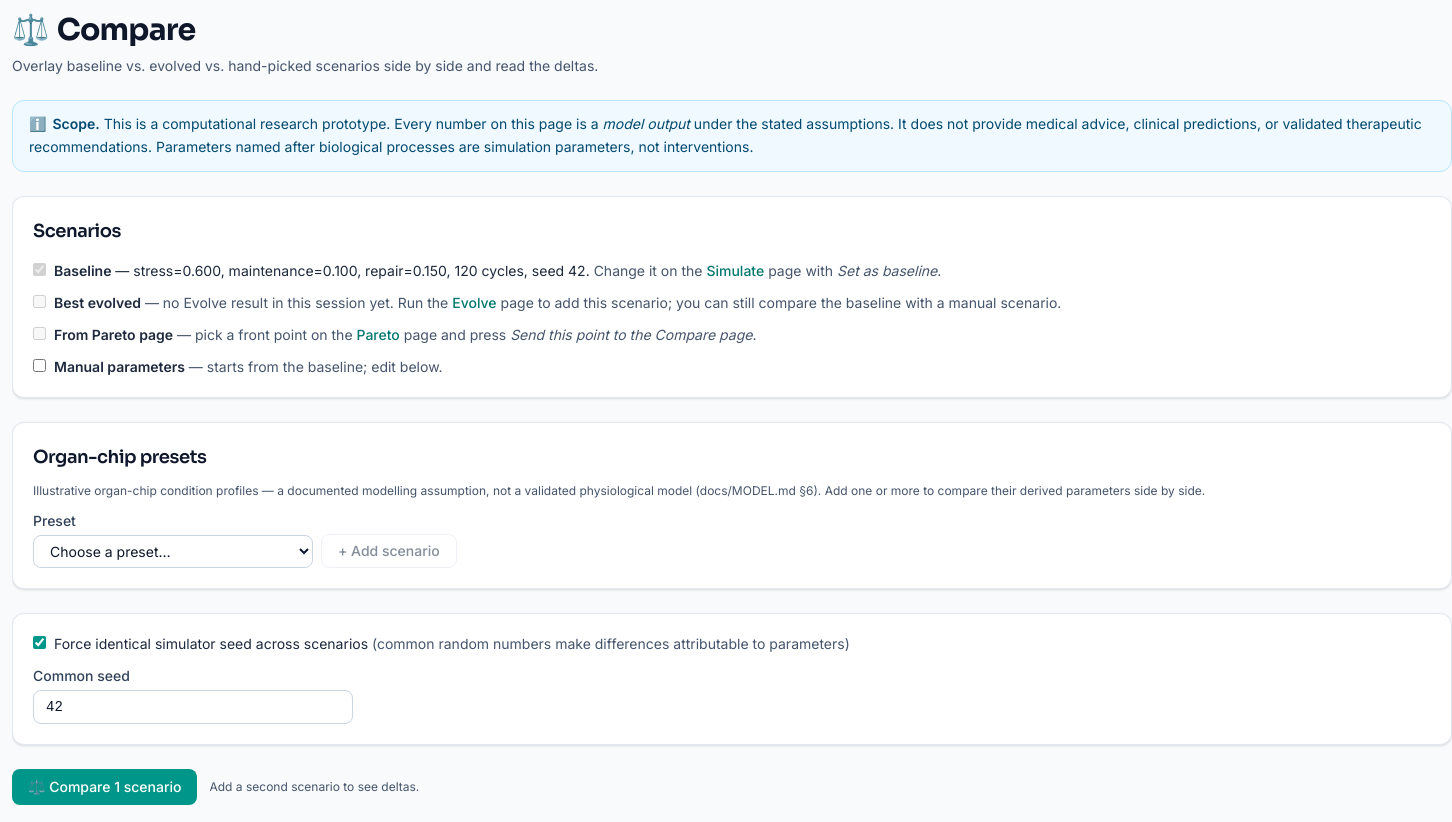
Test: Compare page › shows a 400 from the API
Expected: the text "no Evolve result in this session yet" is shown, [145,294,448,310]
Click the button "⚖️ Compare 1 scenario" at (105, 786), box [12,768,198,804]
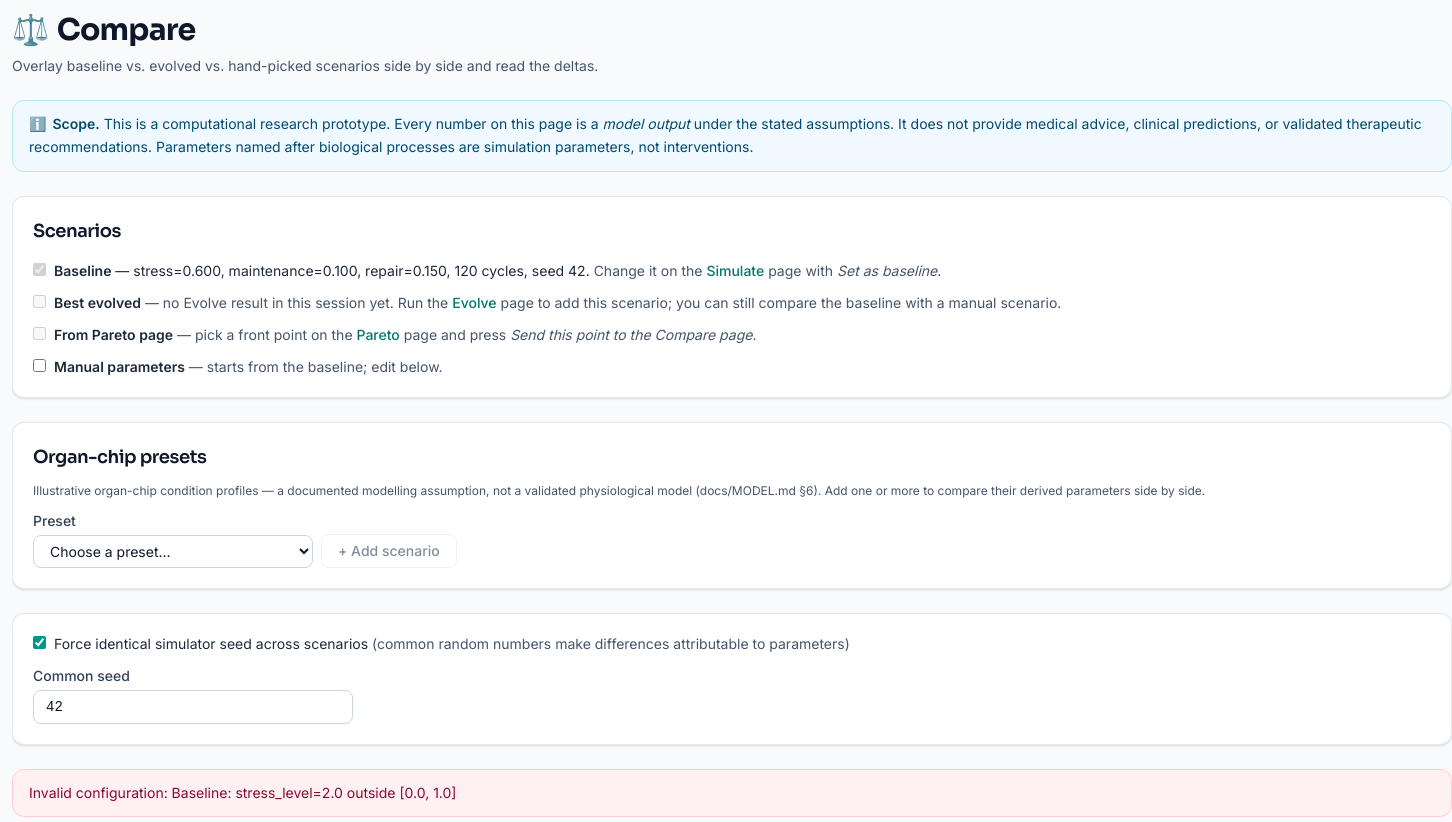
Expected: the message shows "Invalid configuration: Baseline: stress_level=2.0", [29,784,456,800]
